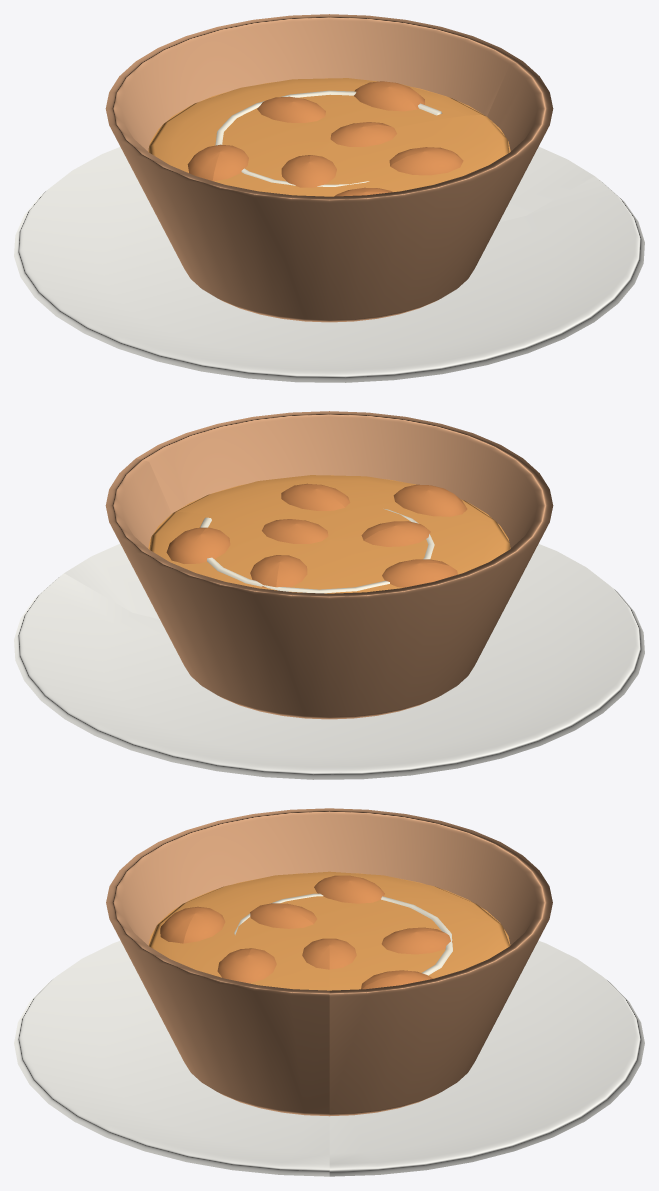
File: butter-chicken.glb
3 renders of one model, top to bottom at view 1: azimuth 30°, elevation 25°; view 2: azimuth 150°, elevation 25°; view 3: azimuth 270°, elevation 25°, orthographic.
Visible parts, largest first — view 1: butter-chicken; view 2: butter-chicken; view 3: butter-chicken.
Boxes of the visible parts, x1,y1,x2,y2 form: butter-chicken: (14,14,644,382); butter-chicken: (14,411,644,779); butter-chicken: (14,808,644,1176).
Size of the model in its own units: 0.24 by 0.071 by 0.24.
